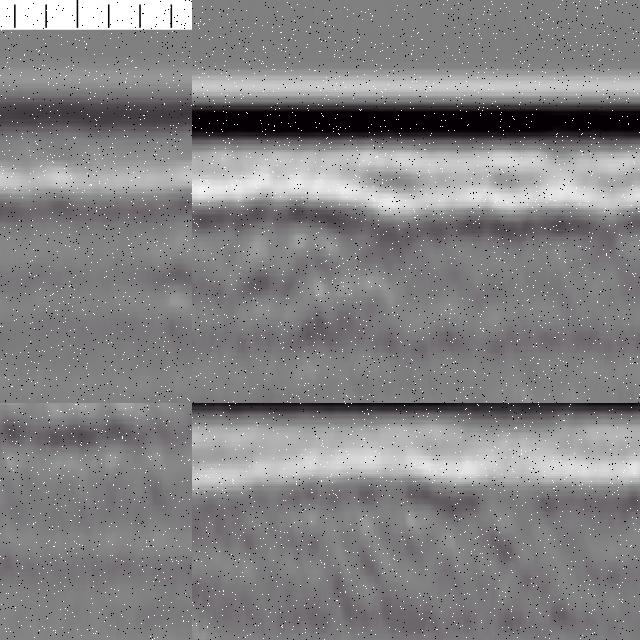crack: (193, 191, 207, 404)
loose: (215, 198, 388, 347)
